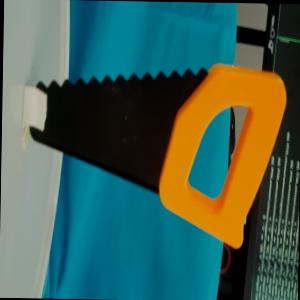serrote: (25, 56, 288, 252)
